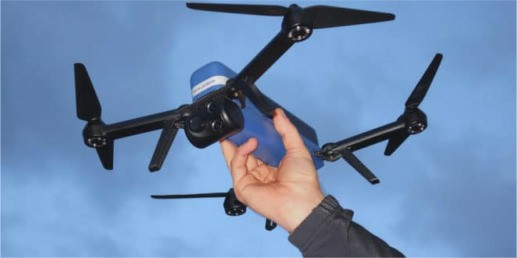maybay_khongnguoilai: (63, 7, 436, 226)
